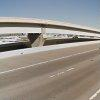Bridge: (4, 10, 97, 42)
